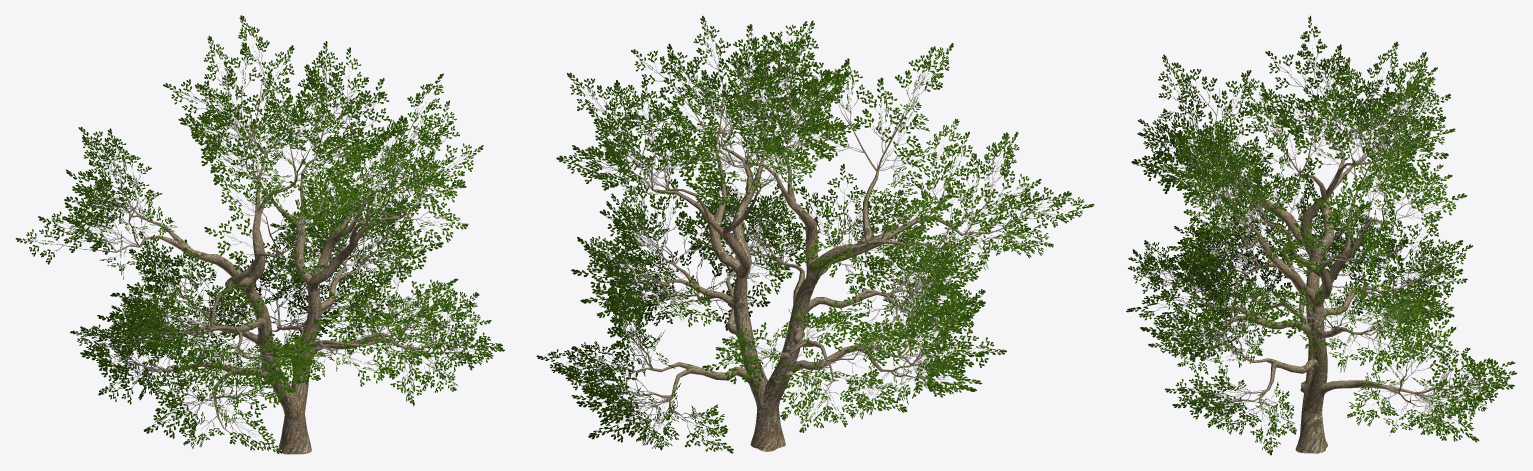
File: chene2.glb
3 views of the same model, side by side, from view 1: azimuth 30°, elevation 25°; view 2: azimuth 150°, elevation 25°; view 3: azimuth 270°, elevation 25° (orthographic). The views are drawn at different scales.
Parts seen in each view (by area): view 1: tree; view 2: tree; view 3: tree.
Boxes of the visible parts, x1,y1,x2,y2 form: tree: (15, 15, 504, 454); tree: (536, 16, 1094, 453); tree: (1126, 15, 1516, 455).
Size of the model in its own units: 1.19 by 1 by 0.9281.
2 materials, 2 textured.
